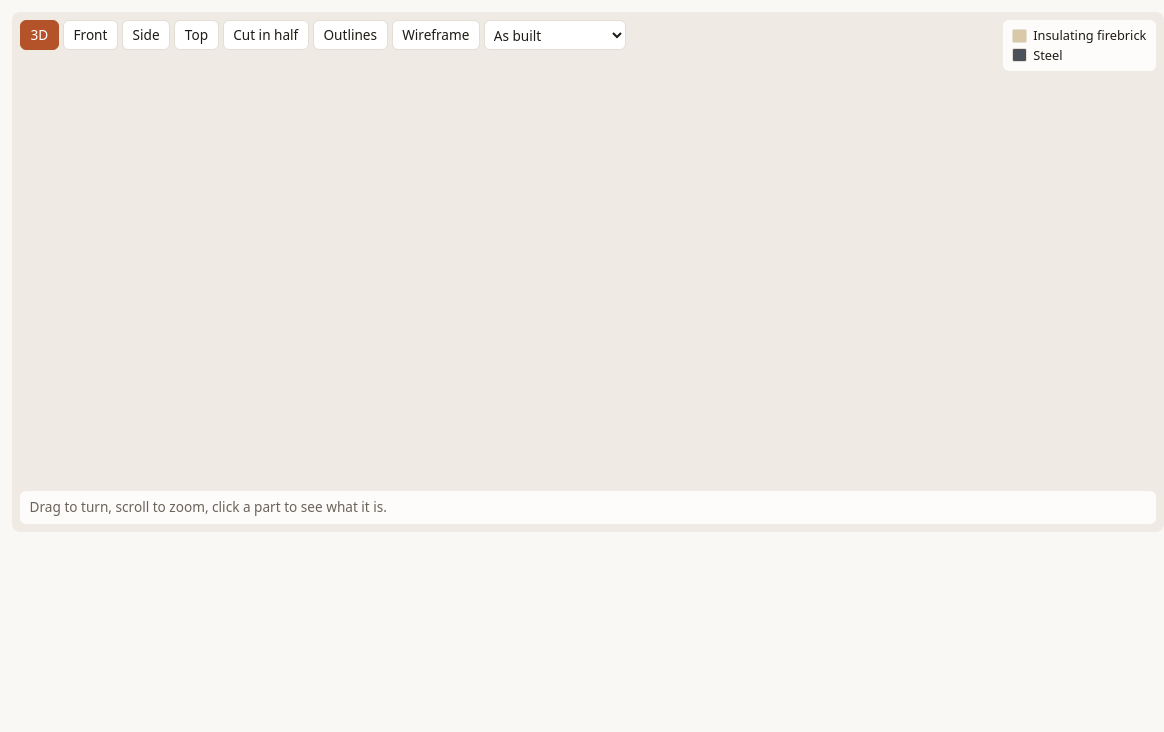
KilnViewer, the toolbar › lists each material once, in the palette's colour, and keeps a colour picked until reset
Expected: the list items read "Insulating firebrick", "Steel", in this order, [1012, 26, 1146, 46]; [1012, 46, 1063, 64]
Expected: the colour field named "Colour for Steel" holds "#4c525c", [1012, 48, 1027, 62]
Select "Greyscale" in the dropdown named "Model colours": (555, 35) [484, 20, 626, 50]
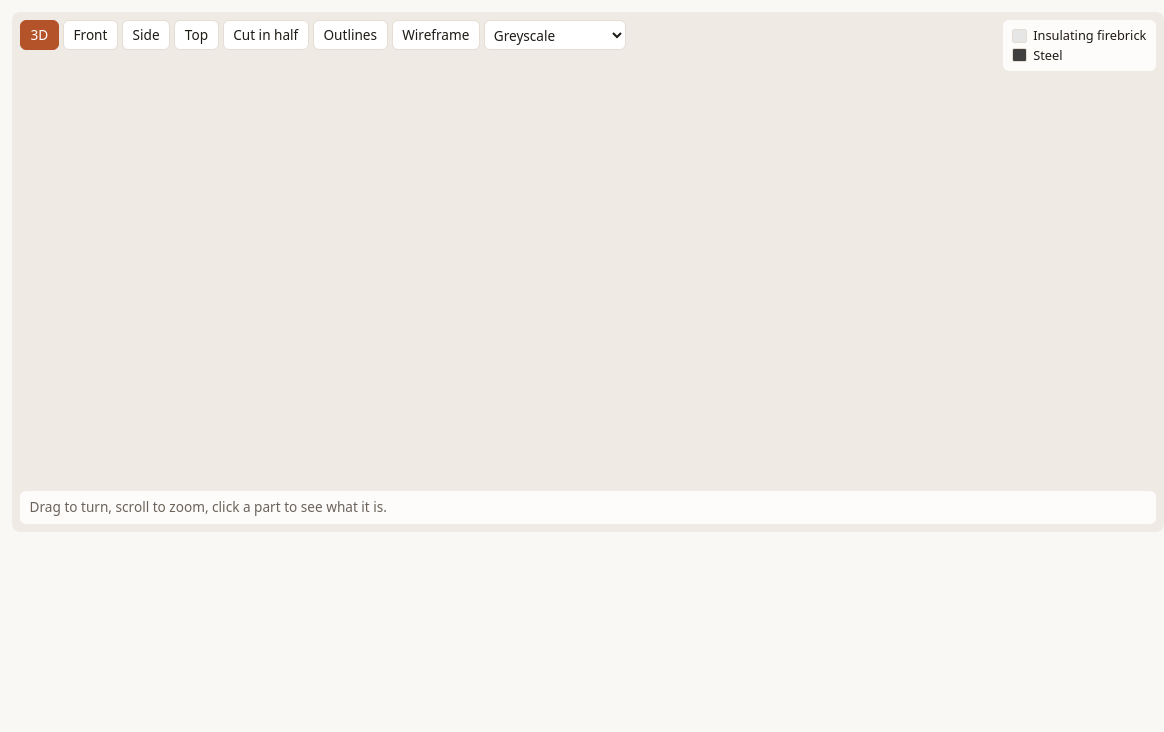
Expected: the button "Reset colours" is not shown
Result: the colour field named "Colour for Steel" holds "#404040"
In the colour field named "Colour for Steel": (1020, 55) [1012, 48, 1027, 62], type "#ff00ff"
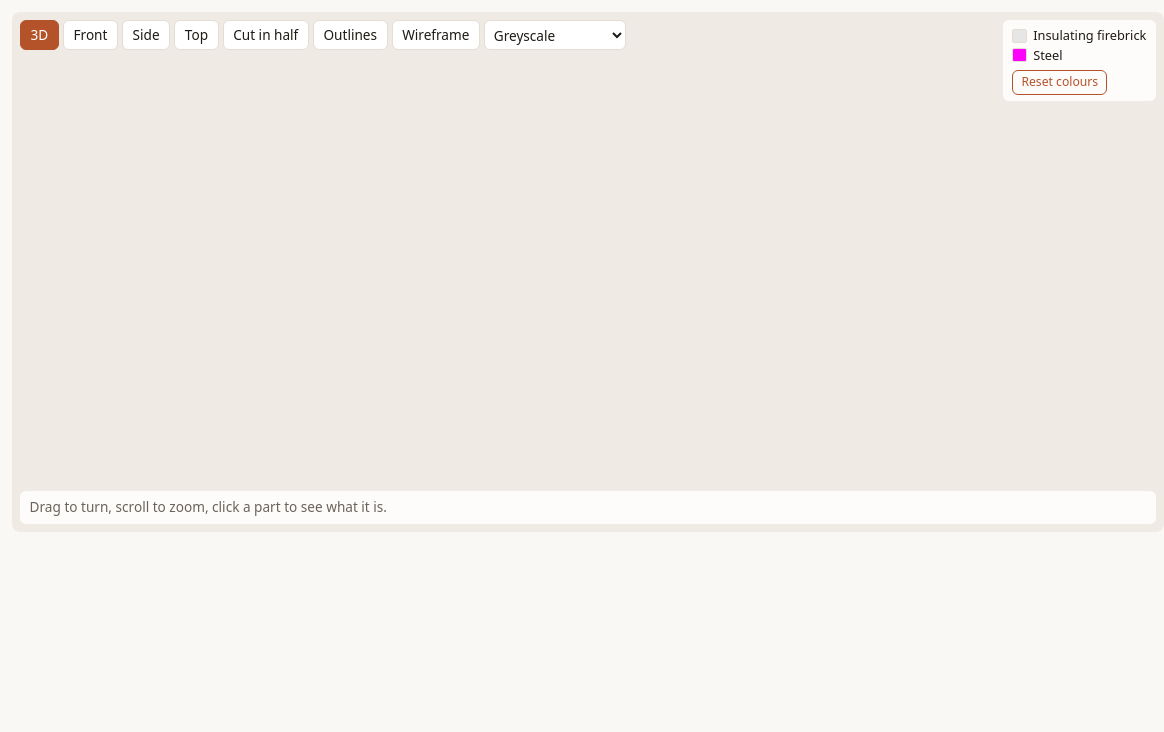
Click the button "Reset colours": (1060, 82) [1012, 70, 1107, 95]
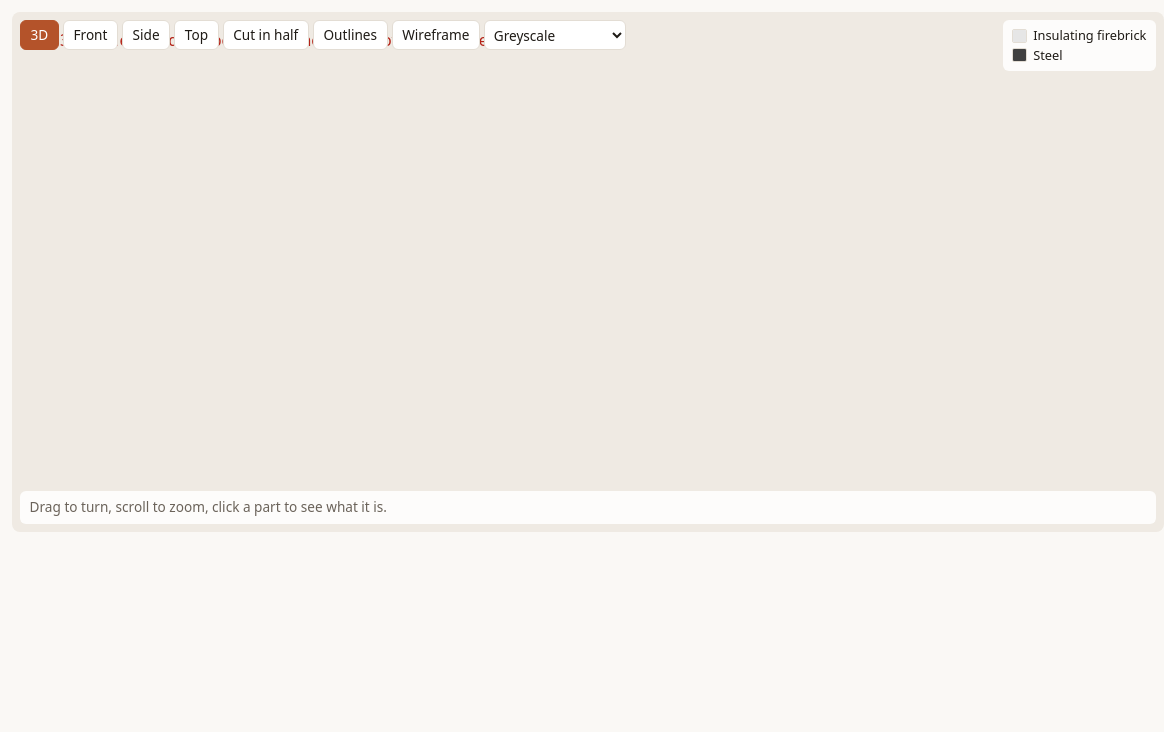
Result: the colour field named "Colour for Steel" holds "#404040" at [1012, 48, 1027, 62]
